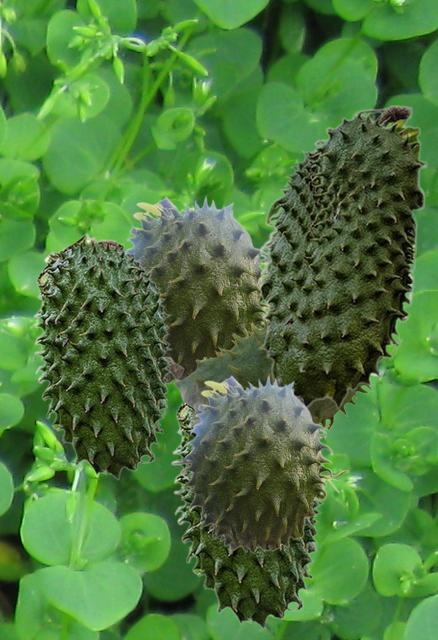guyabano: (257, 104, 426, 409), (32, 232, 173, 479), (171, 402, 323, 628), (171, 373, 348, 553), (126, 194, 267, 384), (165, 315, 383, 431)
